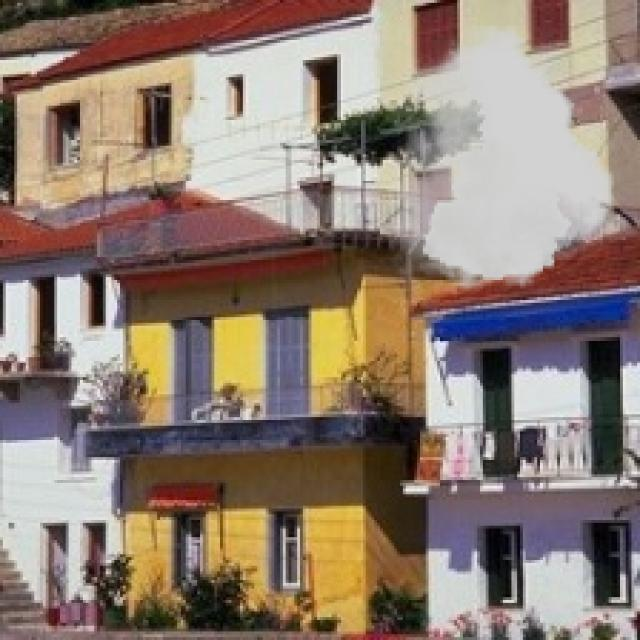Smoke: (388, 25, 614, 292)
